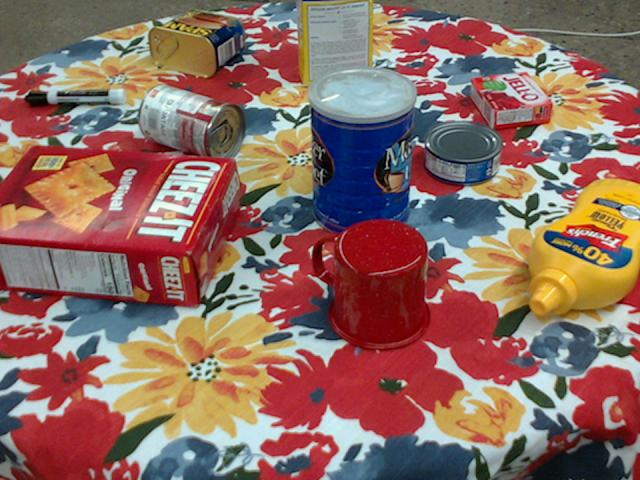cracker_box: (0, 145, 239, 306)
gelatin_box: (468, 73, 550, 130)
large_marker: (26, 88, 125, 105)
master_chef_can: (306, 66, 415, 240)
mug: (311, 218, 430, 351)
mustard_bottle: (528, 176, 639, 314)
potted_meat_can: (148, 8, 244, 76)
sugar_box: (298, 0, 374, 84)
tomato_soup_can: (136, 84, 244, 162)
tuna_fish_can: (423, 121, 502, 185)
